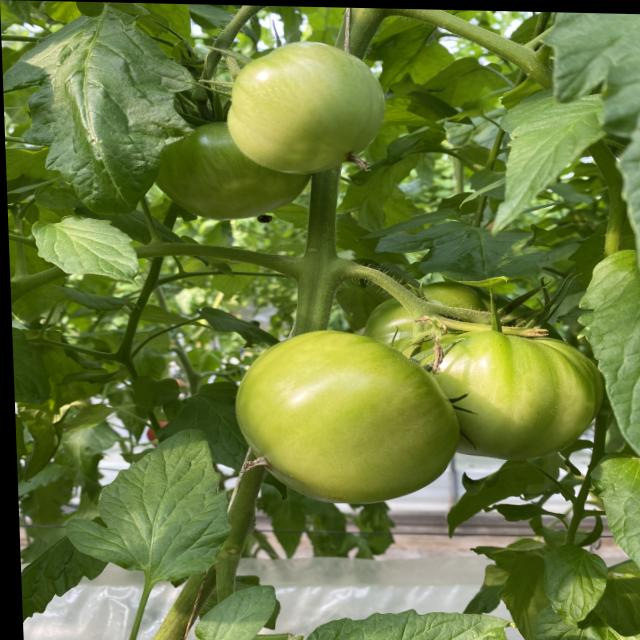yesil: (201, 250, 640, 514), (185, 24, 435, 174)
